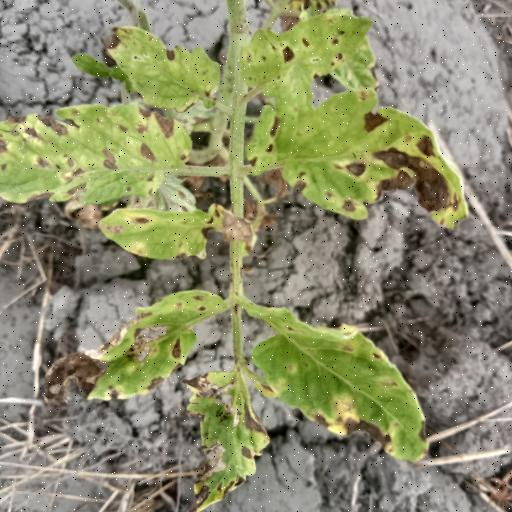Tomato_Brown_Spots: (240, 298, 433, 466), (258, 87, 468, 228), (0, 98, 203, 210), (82, 288, 234, 407)
